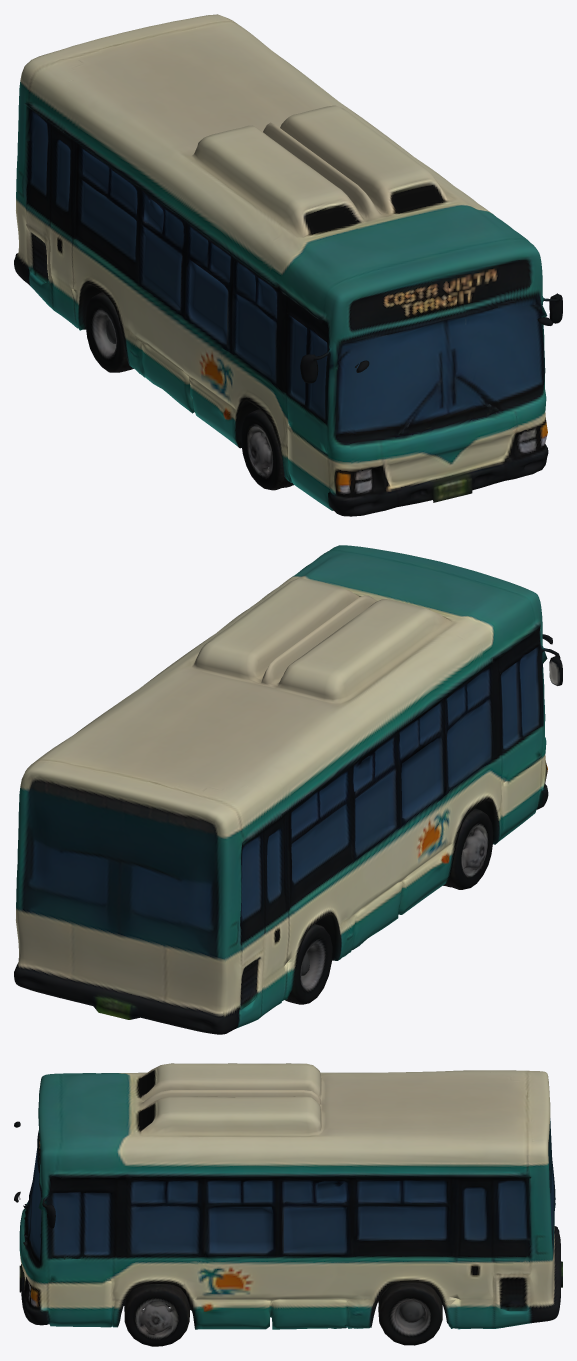
Rendered from urban-bus.glb.
The picture shows the model from 3 angles, top to bottom: view 1: azimuth 30°, elevation 25°; view 2: azimuth 150°, elevation 25°; view 3: azimuth 270°, elevation 25°; orthographic projection. The views are drawn at different scales.
Visible parts, largest first — view 1: model; view 2: model; view 3: model.
Part boxes in pixels (left/top/right/bottom): model: left=14, top=14, right=562, bottom=516; model: left=14, top=545, right=562, bottom=1034; model: left=14, top=1063, right=562, bottom=1346.
Size of the model in its own units: 0.8393 by 0.8301 by 1.9.
Materials: 1 (1 with a texture image).
